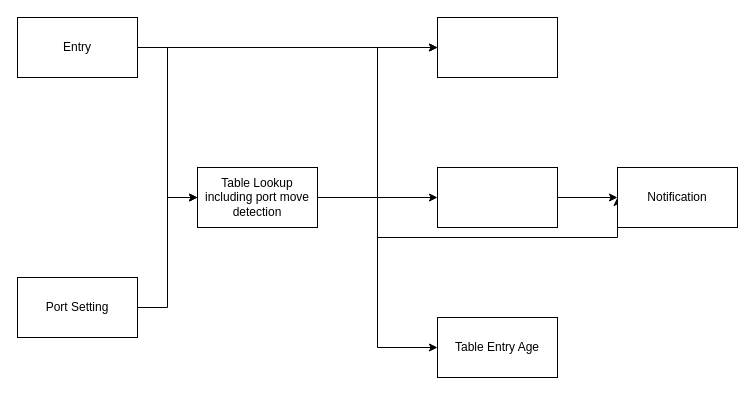
The diagram is 755 pixels wide and 395 high, and some of its shapes have lost their labels. Each missing label, with the box of its shape:
Packet Action (ACT): (436, 16, 558, 78)
Table Entry Learn or Update (LRN): (436, 166, 558, 228)
